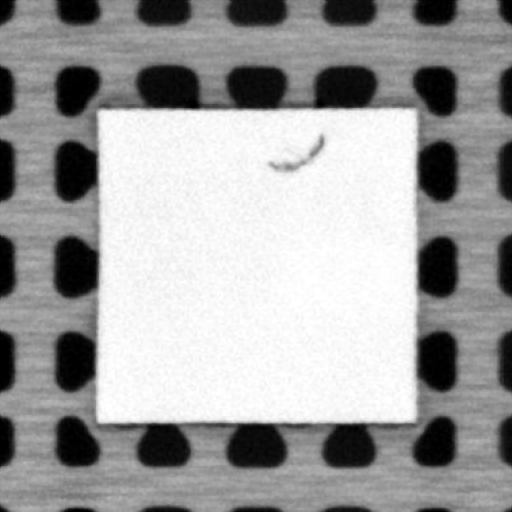DIE_INK: (263, 132, 325, 172)
